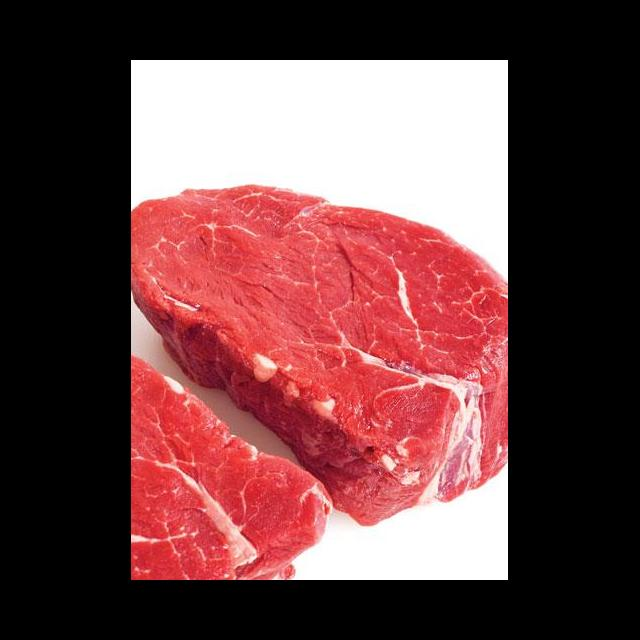beef: (132, 175, 508, 508), (132, 352, 348, 580)
